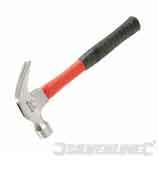hammer: (12, 14, 141, 141)
